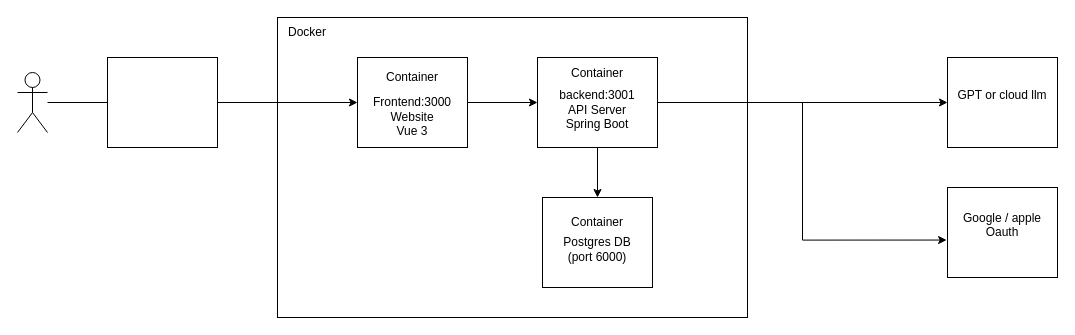
This 1075x335 diagram has some shape labels left out. Here are the shapes that lost their labels. From the top down, the centre of each, then its label:
the point at 32,102: Client
the point at 162,102: Reverse Proxy
